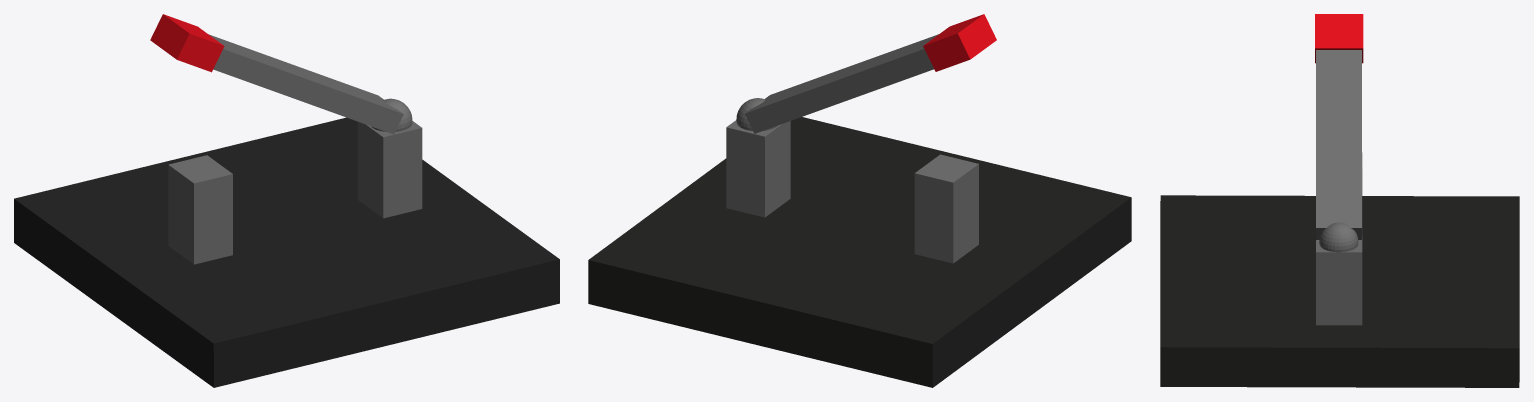
File: switch_off.fbx
The picture shows the model from 3 angles, left to right: view 1: azimuth 30°, elevation 25°; view 2: azimuth 150°, elevation 25°; view 3: azimuth 270°, elevation 25°; orthographic projection. The views are drawn at different scales.
Visible parts, largest first — view 1: Cube, 立方体.002, 立方体.001, 立方体; view 2: Cube, 立方体.002, 立方体.001, 立方体; view 3: Cube, 立方体.002, 立方体, 立方体.003.
Boxes of the visible parts, x1,y1,x2,y2 form: Cube: (14, 117, 559, 387); 立方体.002: (150, 14, 403, 134); 立方体.001: (168, 155, 232, 264); 立方体: (357, 121, 422, 218); Cube: (588, 117, 1131, 387); 立方体.002: (744, 14, 996, 133); 立方体.001: (914, 154, 978, 263); 立方体: (726, 120, 790, 217); Cube: (1160, 195, 1519, 387); 立方体.002: (1315, 14, 1363, 239); 立方体: (1316, 235, 1362, 325); 立方体.003: (1319, 222, 1358, 252).
Size of the model in its own units: 200 by 153 by 200.
